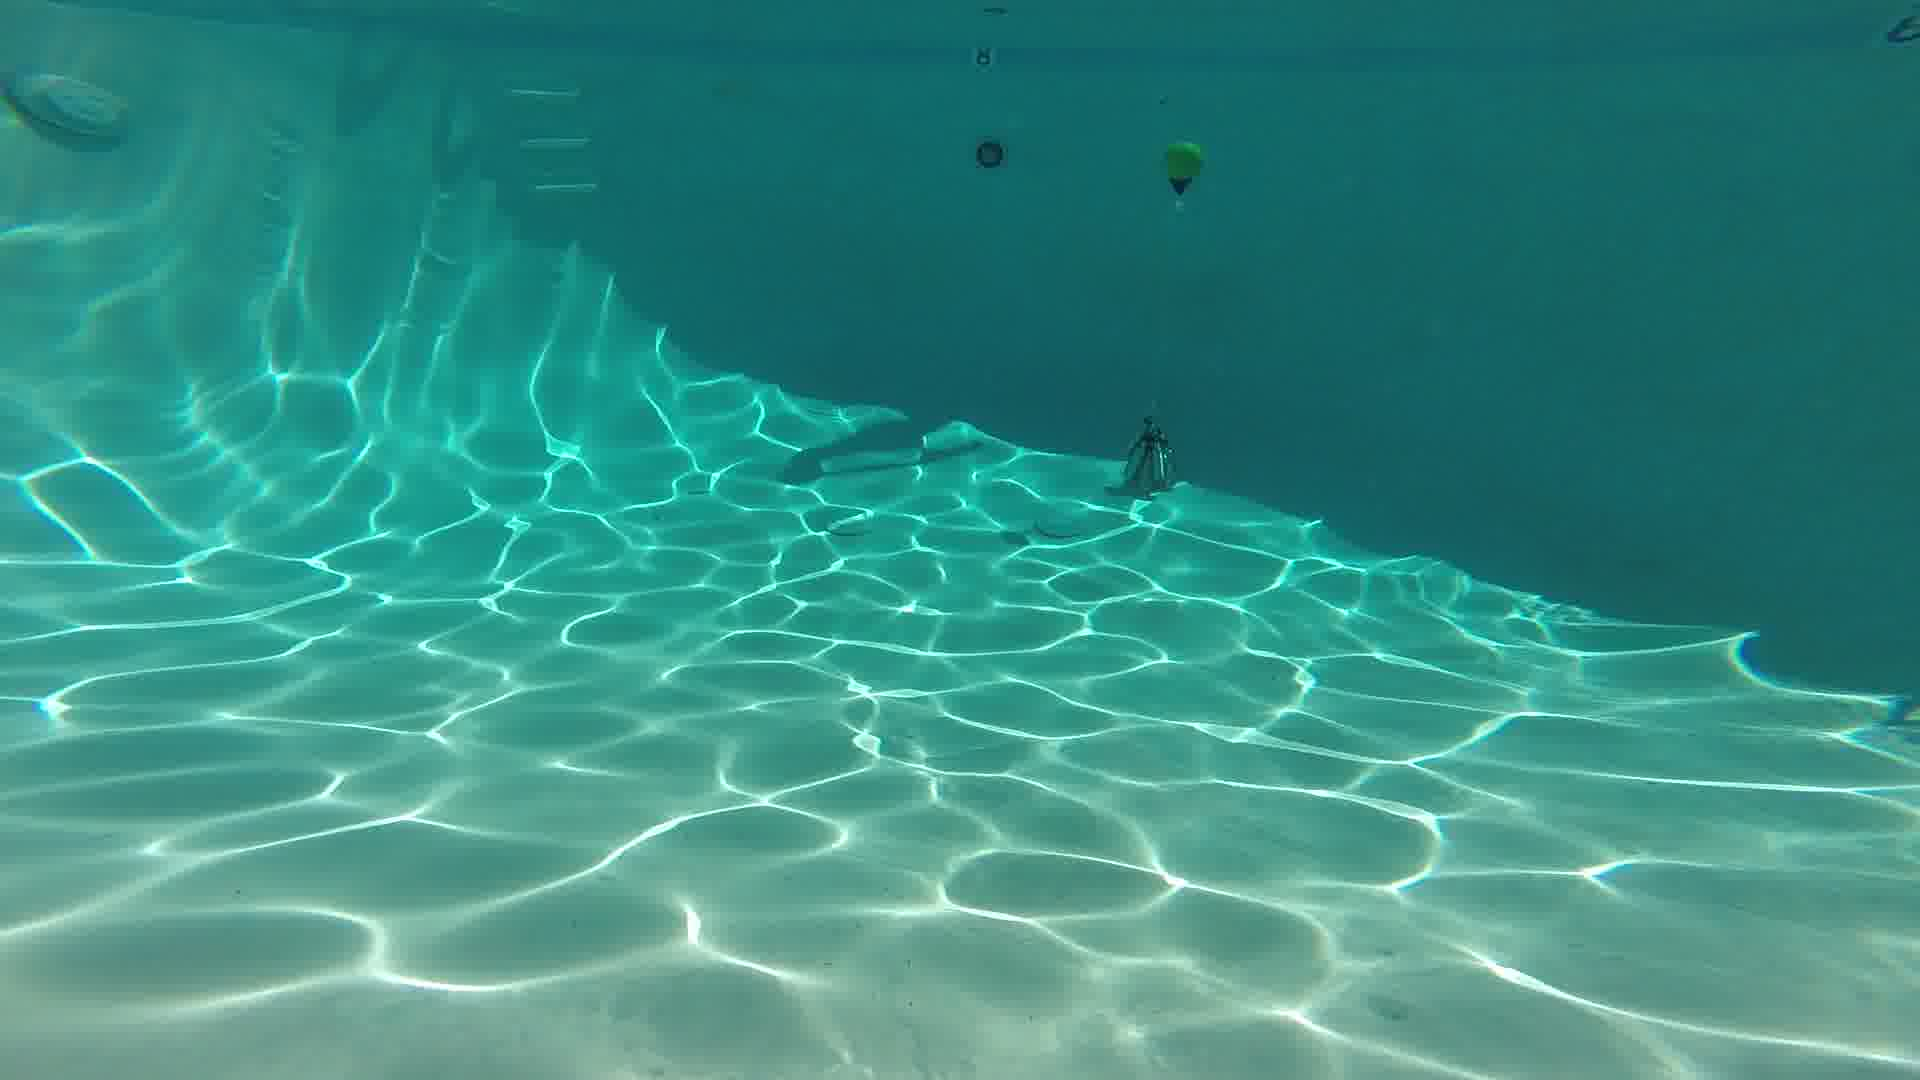yellow_buoy: (1164, 138, 1205, 196)
